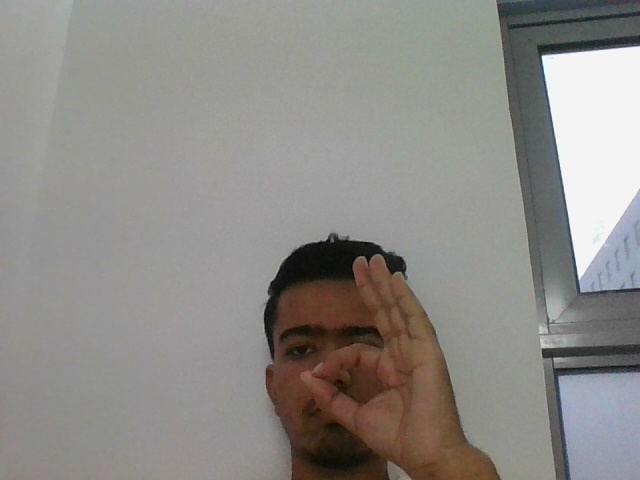ok: (297, 249, 464, 467)
